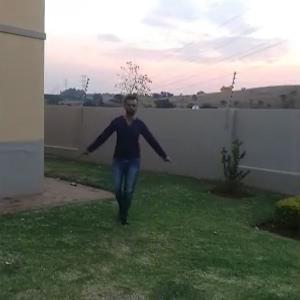land: (80, 93, 174, 239)
